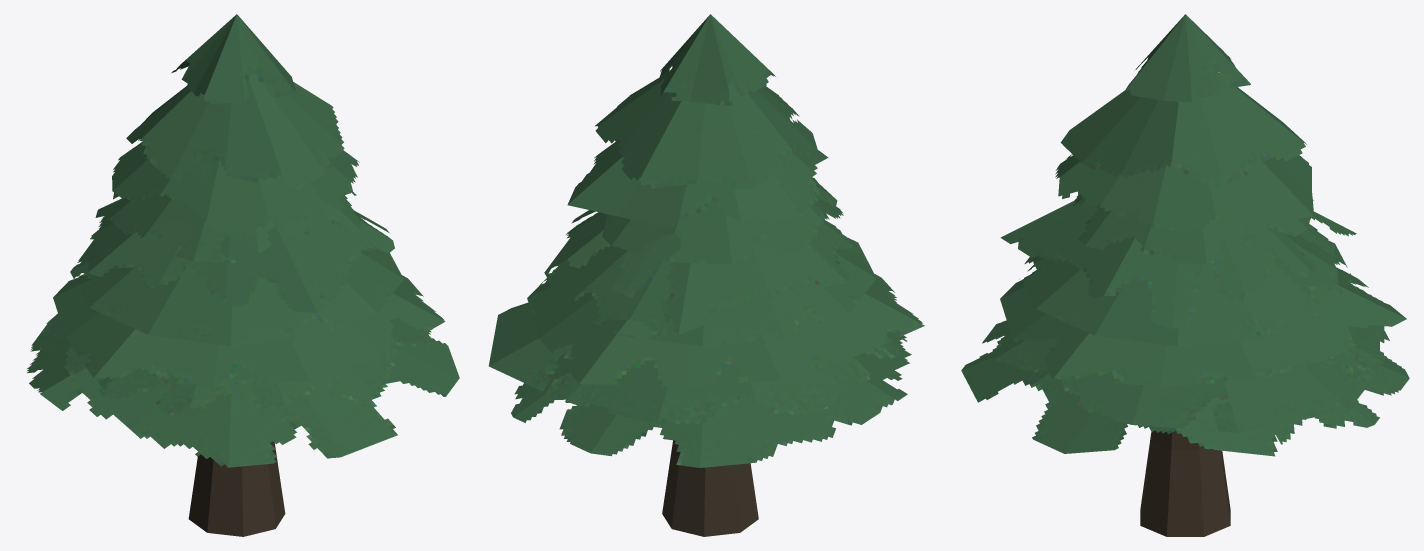
The model's file is tree.gltf.
The picture shows the model from 3 angles, left to right: view 1: azimuth 30°, elevation 25°; view 2: azimuth 150°, elevation 25°; view 3: azimuth 270°, elevation 25°; orthographic projection.
Visible parts, largest first — view 1: cylinder; view 2: cylinder; view 3: cylinder.
Boxes of the visible parts, left/top/right/bottom form: cylinder: left=27, top=14, right=459, bottom=536; cylinder: left=488, top=14, right=924, bottom=536; cylinder: left=961, top=14, right=1409, bottom=536.
Bounding box in the file's own units: 1.54 × 1.92 × 1.55.
10 materials, 10 textured.
